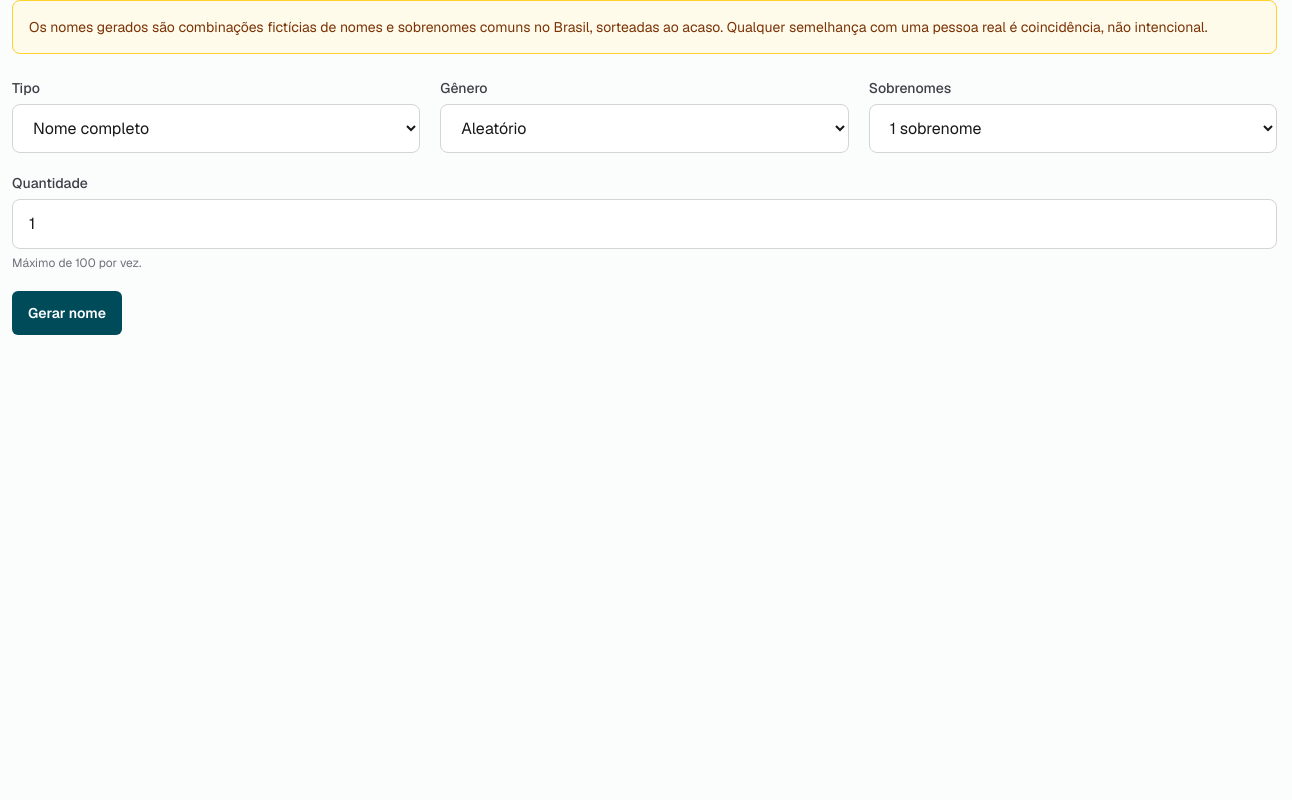
Scenario: NameGeneratorTool › gera um único nome ao clicar em 'Gerar nome'
What coordinates should you click on to do the following:
click the button "Gerar nome"
I would click on:
 (67, 313)
Its box is [12,291,122,335].
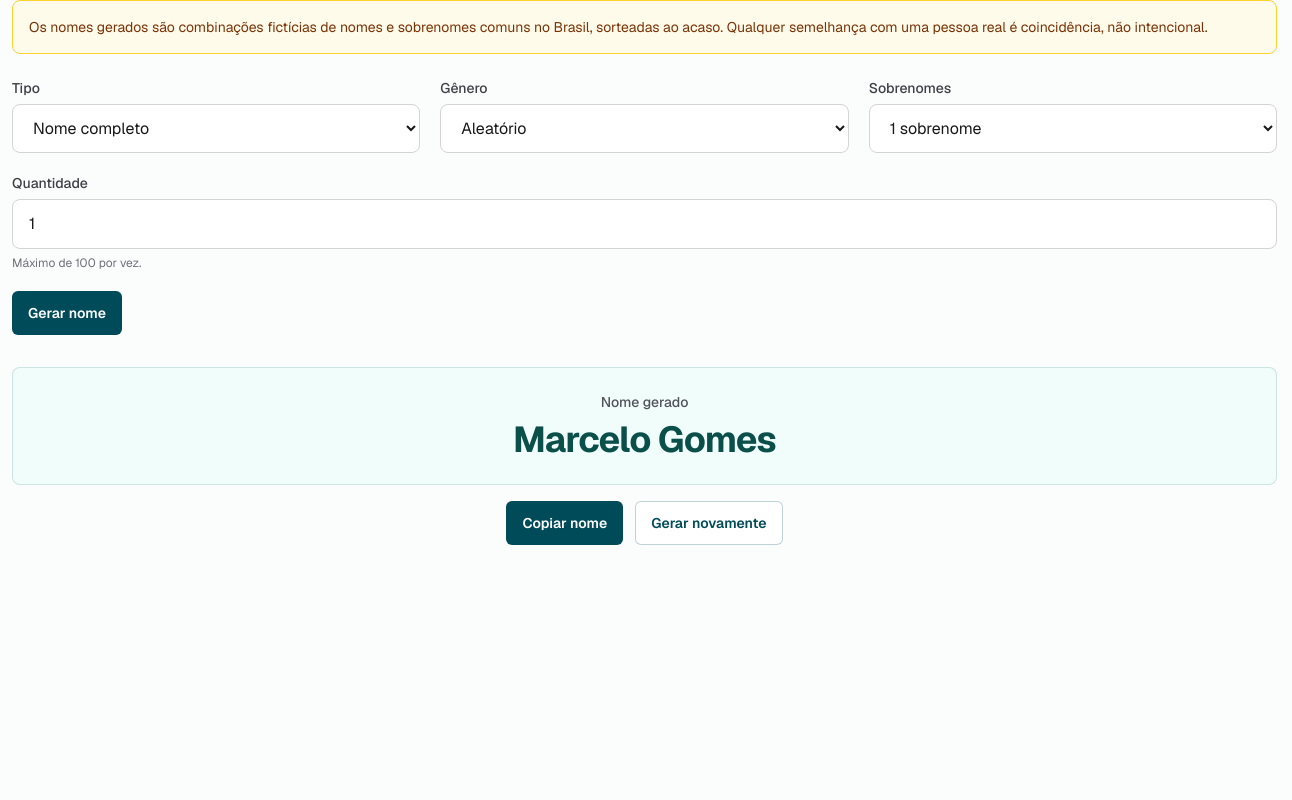
Check: the text "Nome gerado" is shown, box [601,393,688,411]
